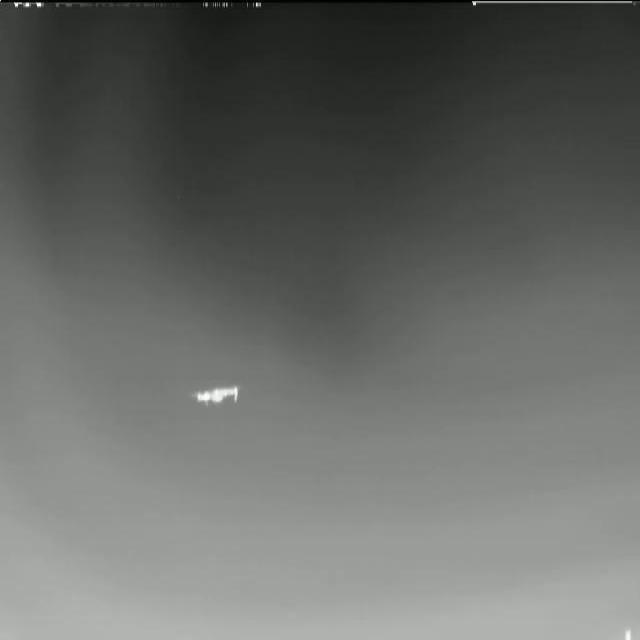DRONE: (181, 376, 249, 416)
